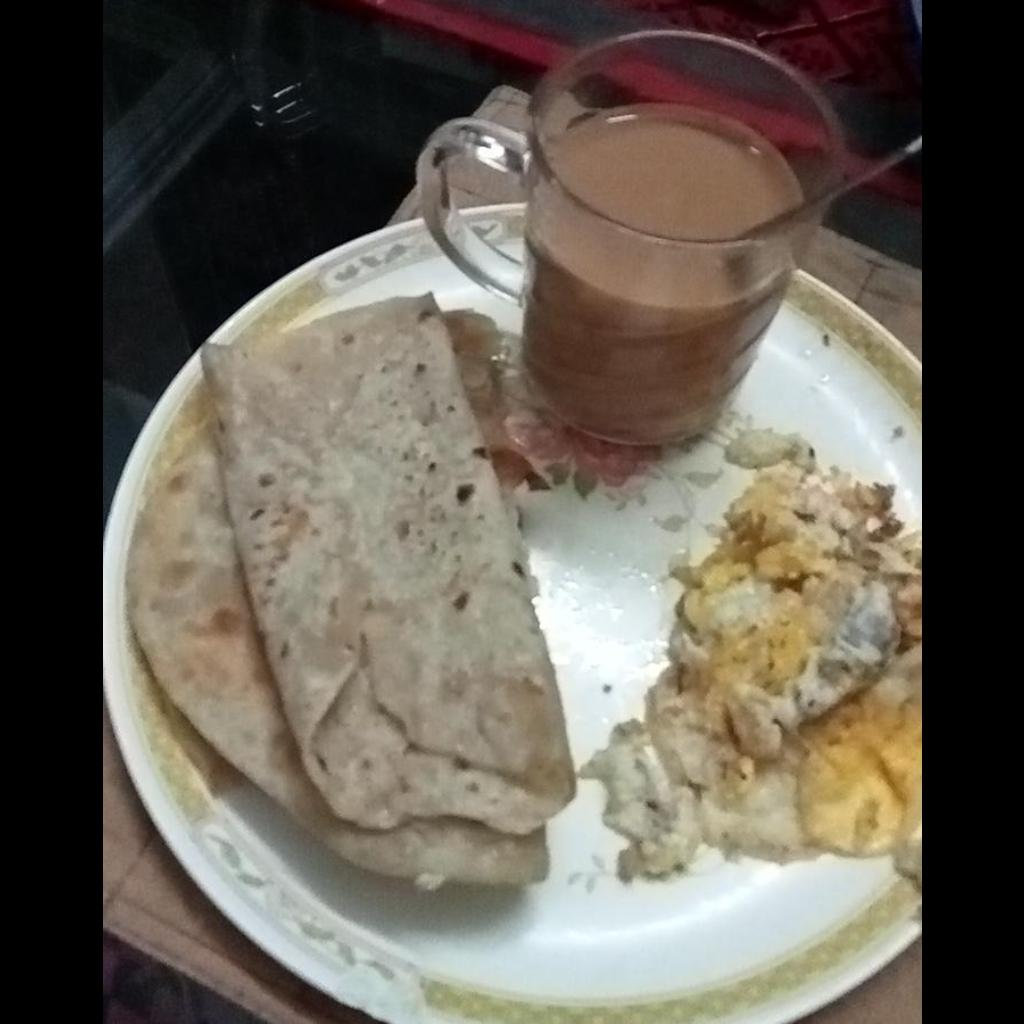cha: (553, 106, 787, 238)
egg-poached: (584, 431, 920, 887)
ruti: (125, 291, 578, 881)
